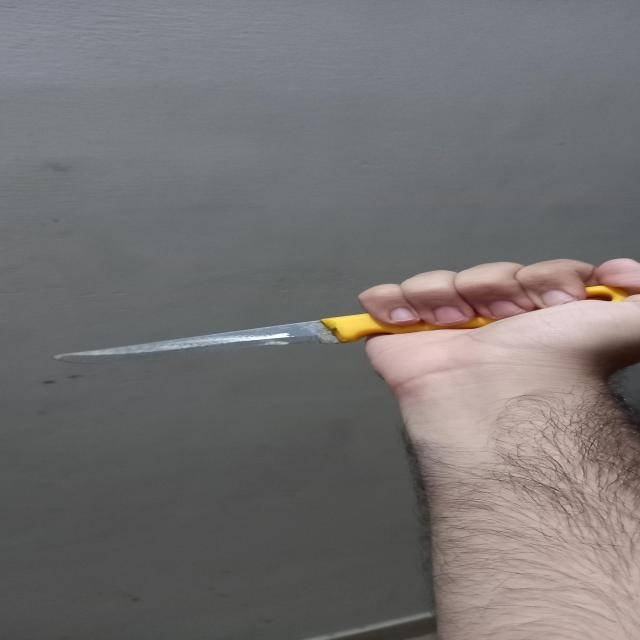Knife: (37, 268, 629, 369)
